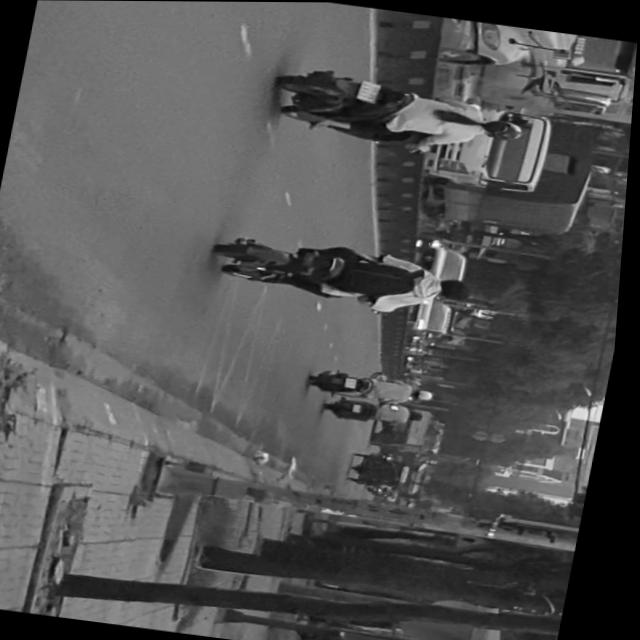helmet: (484, 114, 527, 141)
licenseplate: (210, 224, 487, 320), (268, 63, 537, 159)
motorcyclist: (439, 273, 479, 300)
nohelmet: (359, 78, 384, 100)
